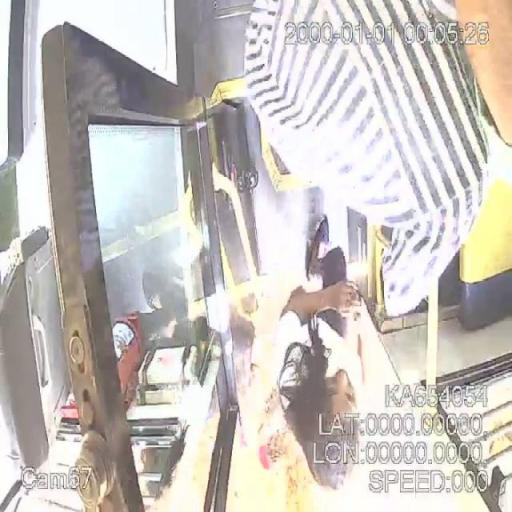persona: (242, 1, 500, 320), (274, 244, 402, 490)
